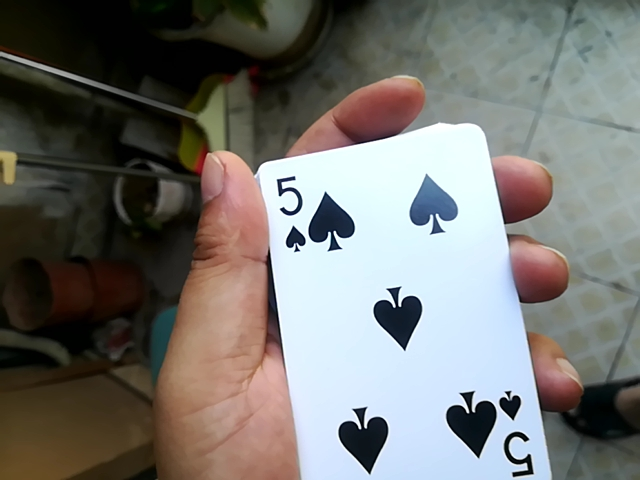ht 5: (244, 128, 547, 480)
